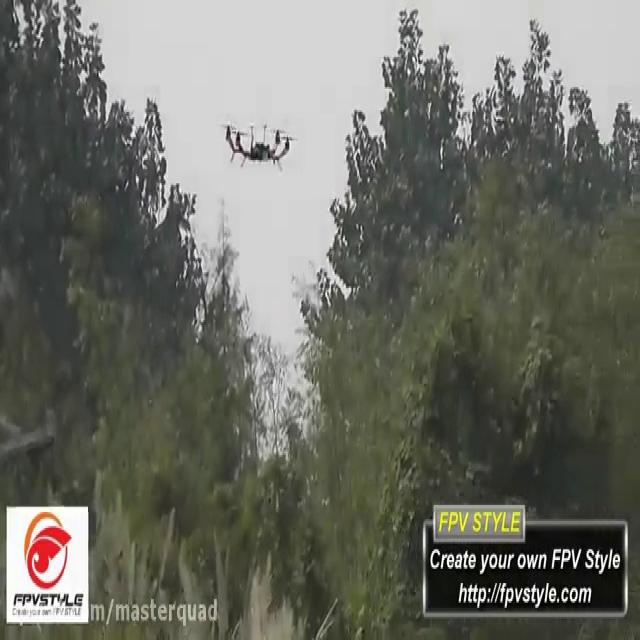drone: (216, 114, 301, 170)
